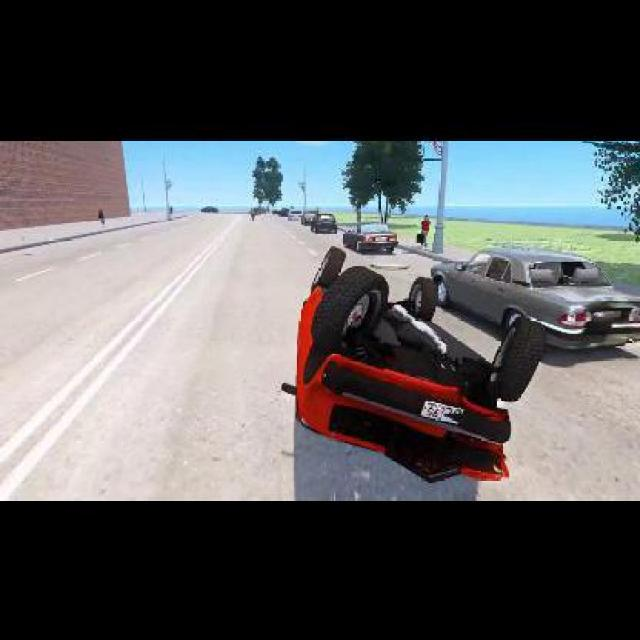accident: (277, 240, 541, 485)
